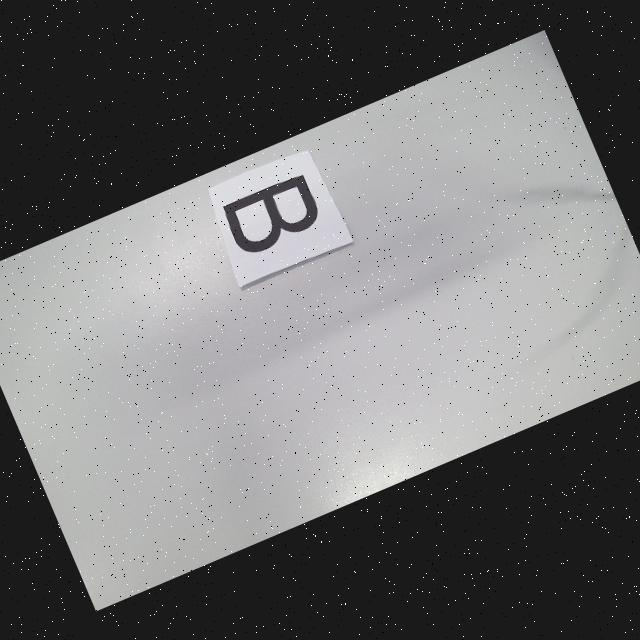FAKE: (220, 172, 325, 260)
